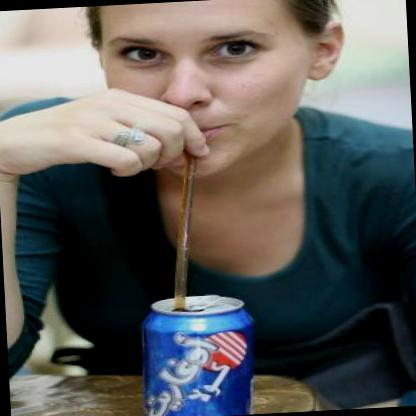alumunium_can: (135, 293, 258, 416)
